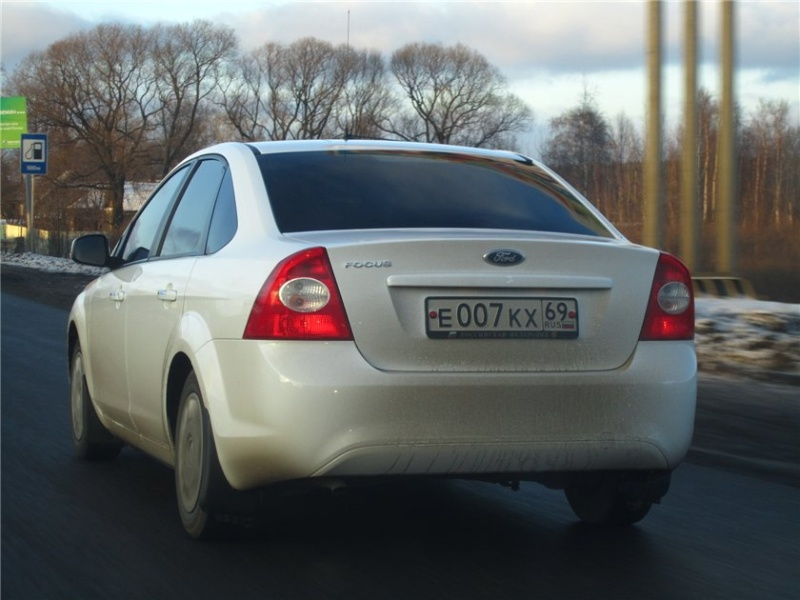car: (67, 140, 695, 537)
plate: (426, 297, 578, 340)
